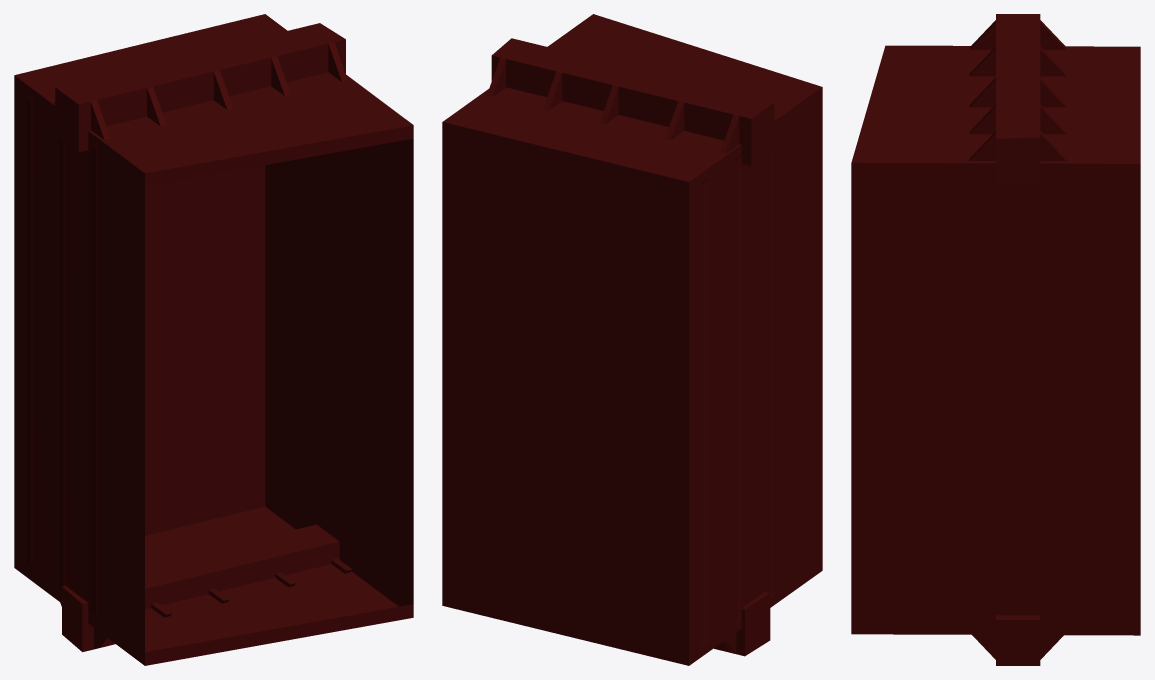
The model's file is TrashBox.obj.
3 renders of one model, left to right at view 1: azimuth 30°, elevation 25°; view 2: azimuth 150°, elevation 25°; view 3: azimuth 270°, elevation 25°, orthographic. The views are drawn at different scales.
Visible parts, largest first — view 1: Cube.002; view 2: Cube.002; view 3: Cube.002.
Part boxes in pixels (x1,y1,x2,y2): Cube.002: (14, 14, 413, 665); Cube.002: (442, 14, 822, 665); Cube.002: (851, 14, 1140, 665).
Bounding box in the file's own units: 14.06 × 27.19 × 13.56.
